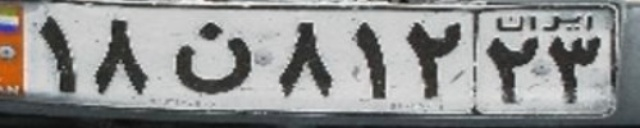1: (350, 21, 388, 98), (38, 16, 76, 92)
2: (404, 21, 461, 99), (484, 35, 539, 103)
3: (545, 35, 603, 105)
8: (277, 21, 334, 97), (95, 18, 148, 93)
non: (173, 21, 253, 94)
